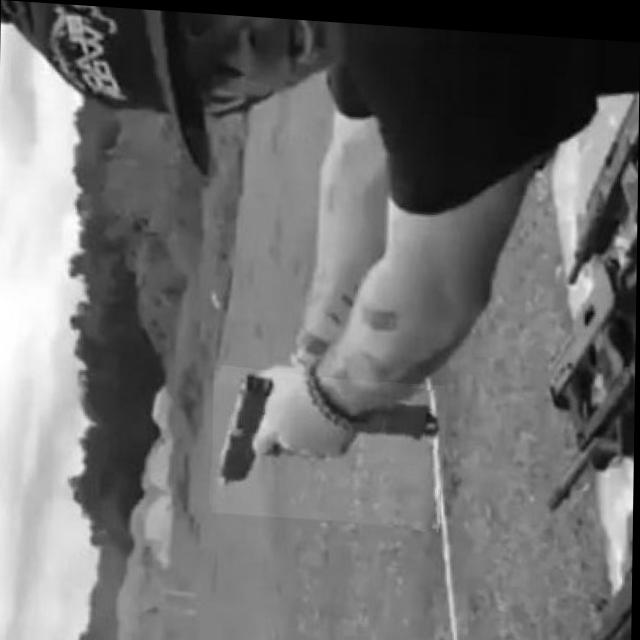handgun: (210, 364, 447, 525)
